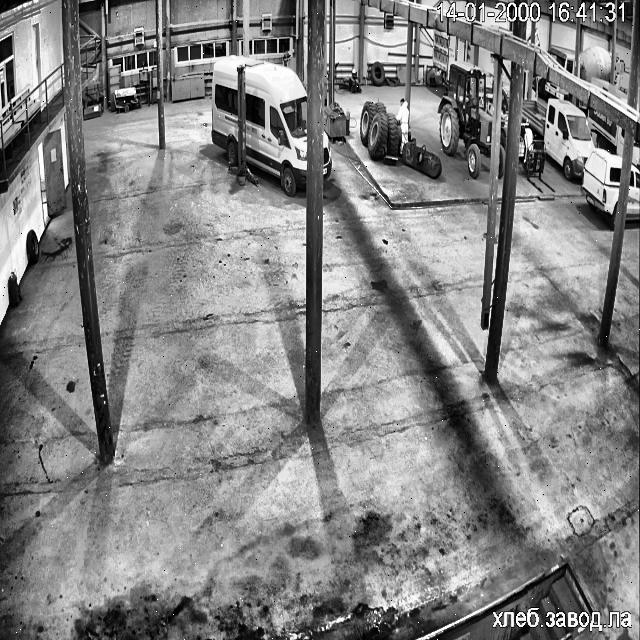class4: (396, 99, 408, 153)
class6: (438, 61, 492, 178), (498, 140, 504, 177), (500, 113, 501, 116)
class7: (212, 55, 307, 196), (523, 99, 593, 180), (581, 148, 620, 228), (588, 108, 624, 156), (592, 78, 626, 105), (548, 45, 574, 73), (627, 166, 640, 219), (536, 76, 564, 100), (323, 132, 332, 178), (632, 141, 640, 164)
tractor: (8, 272, 21, 306)
truck: (228, 61, 257, 185)
